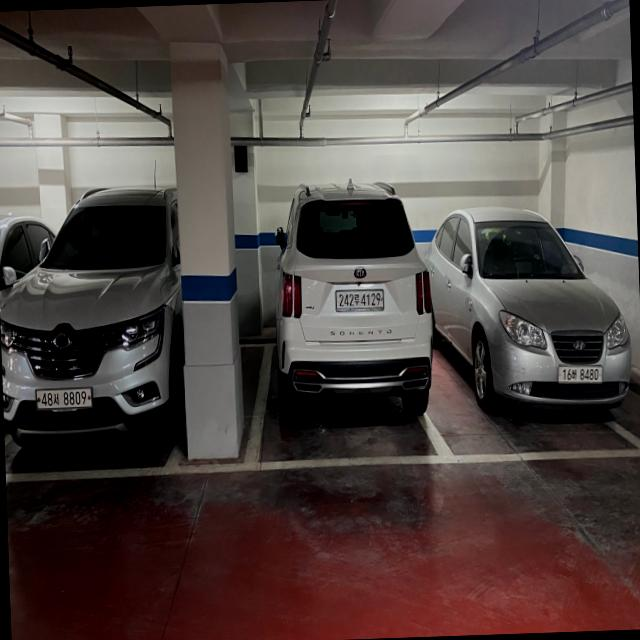car: (0, 185, 182, 442), (438, 204, 634, 420), (272, 175, 436, 422)
